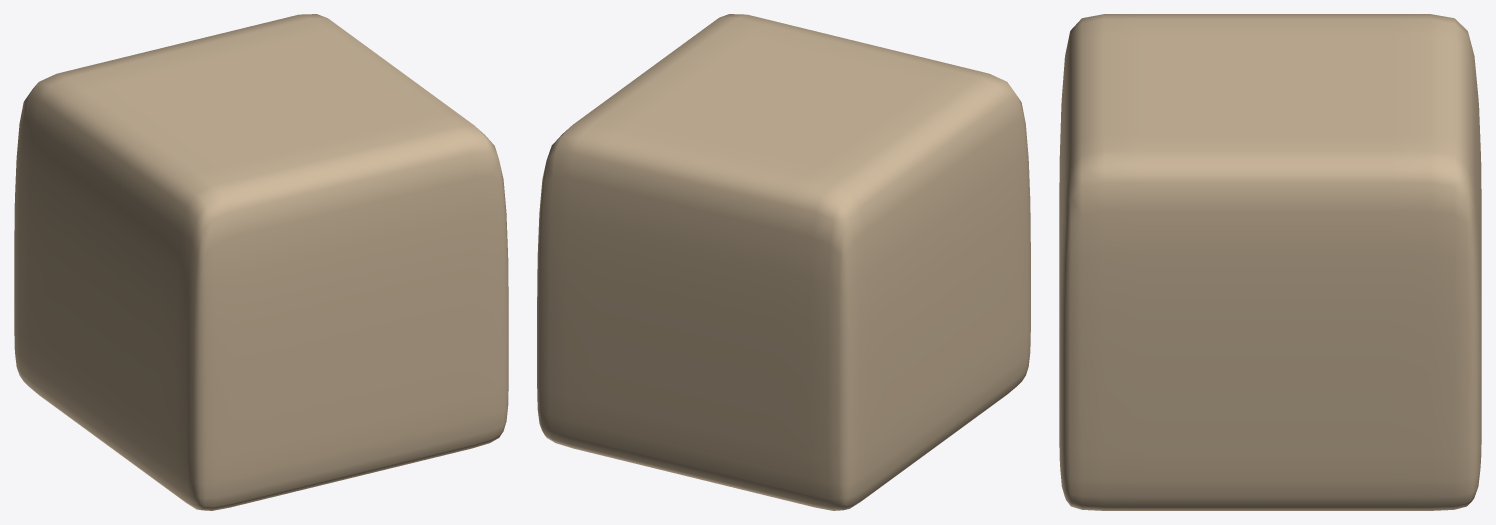
3 renders of one model, left to right at view 1: azimuth 30°, elevation 25°; view 2: azimuth 150°, elevation 25°; view 3: azimuth 270°, elevation 25°, orthographic. The views are drawn at different scales.
Visible parts, largest first — view 1: pCube47; view 2: pCube47; view 3: pCube47.
Boxes of the visible parts, box(x1,y1,x2,y2) form: pCube47: box(14, 14, 508, 510); pCube47: box(537, 14, 1030, 510); pCube47: box(1059, 14, 1481, 510).
Size of the model in its own units: 2.63 by 2.48 by 2.72.
